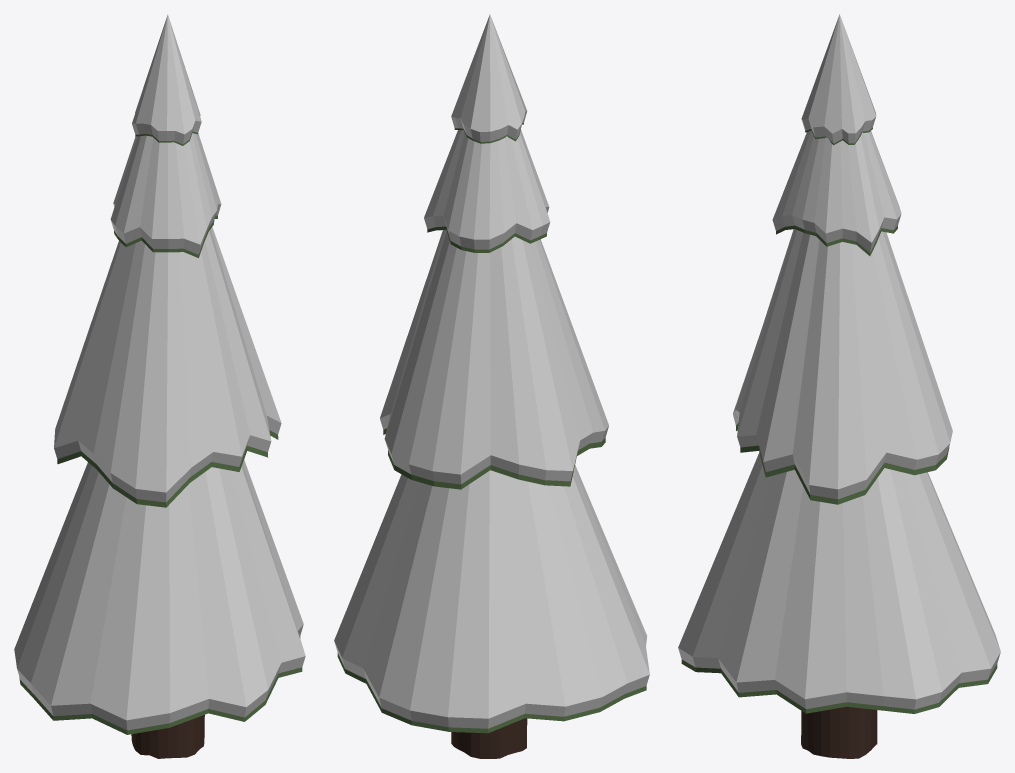
File: tree_snow2.glb
3 renders of one model, left to right at view 1: azimuth 30°, elevation 25°; view 2: azimuth 150°, elevation 25°; view 3: azimuth 270°, elevation 25°, orthographic.
Parts seen in each view (by area): view 1: Cylinder; view 2: Cylinder; view 3: Cylinder.
Part boxes in pixels (x1=…): Cylinder: x1=14, y1=14, x2=305, y2=758; Cylinder: x1=334, y1=14, x2=649, y2=758; Cylinder: x1=678, y1=14, x2=1000, y2=758.
Size of the model in its own units: 1.52 by 4.11 by 1.65.
